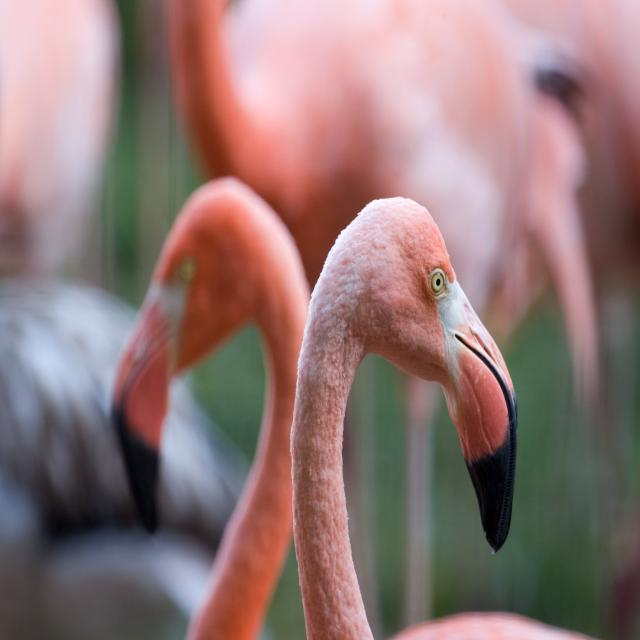Flamingo: (292, 191, 528, 640)
